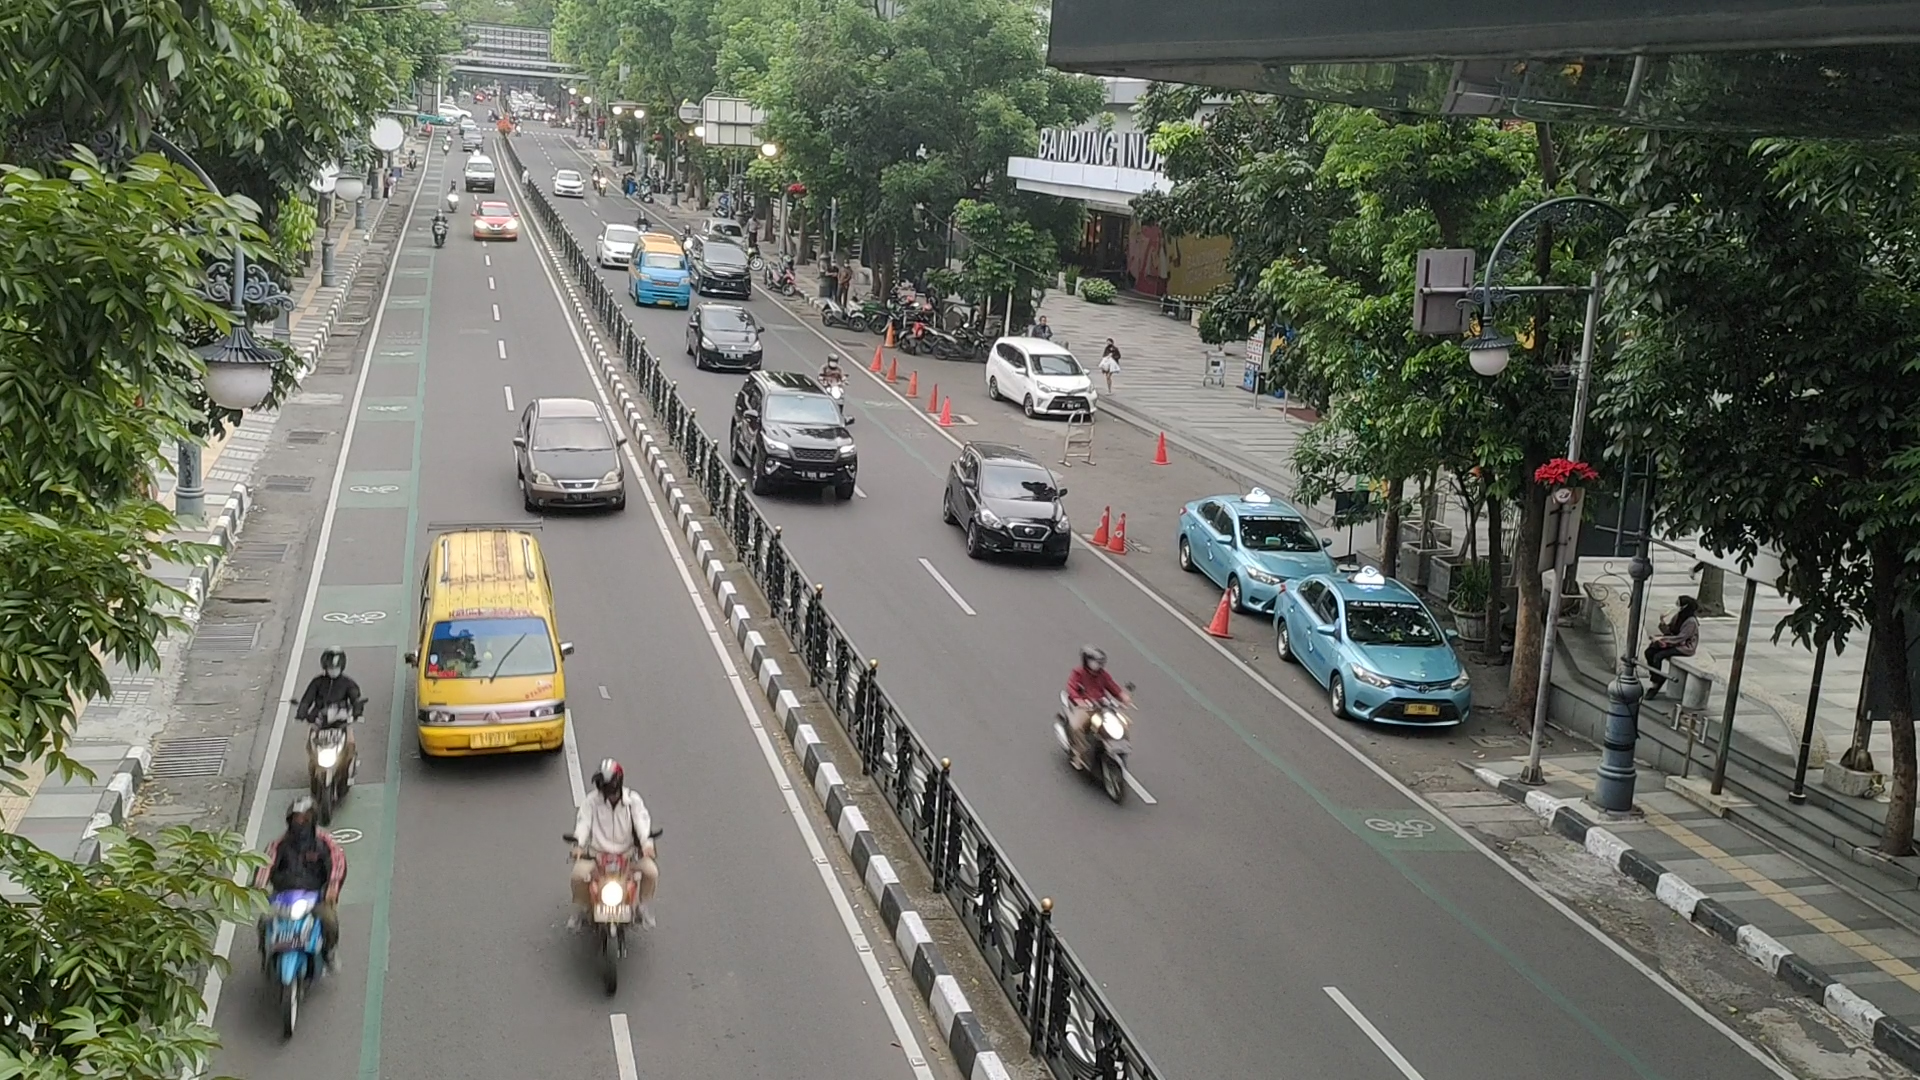mobil: (411, 615, 568, 770), (1328, 599, 1474, 735), (748, 390, 860, 504), (965, 458, 1073, 568), (520, 411, 625, 517), (1023, 351, 1098, 425), (695, 305, 764, 375)
motor: (550, 752, 674, 1006), (243, 794, 367, 1048), (280, 636, 377, 835), (1048, 618, 1145, 819)
